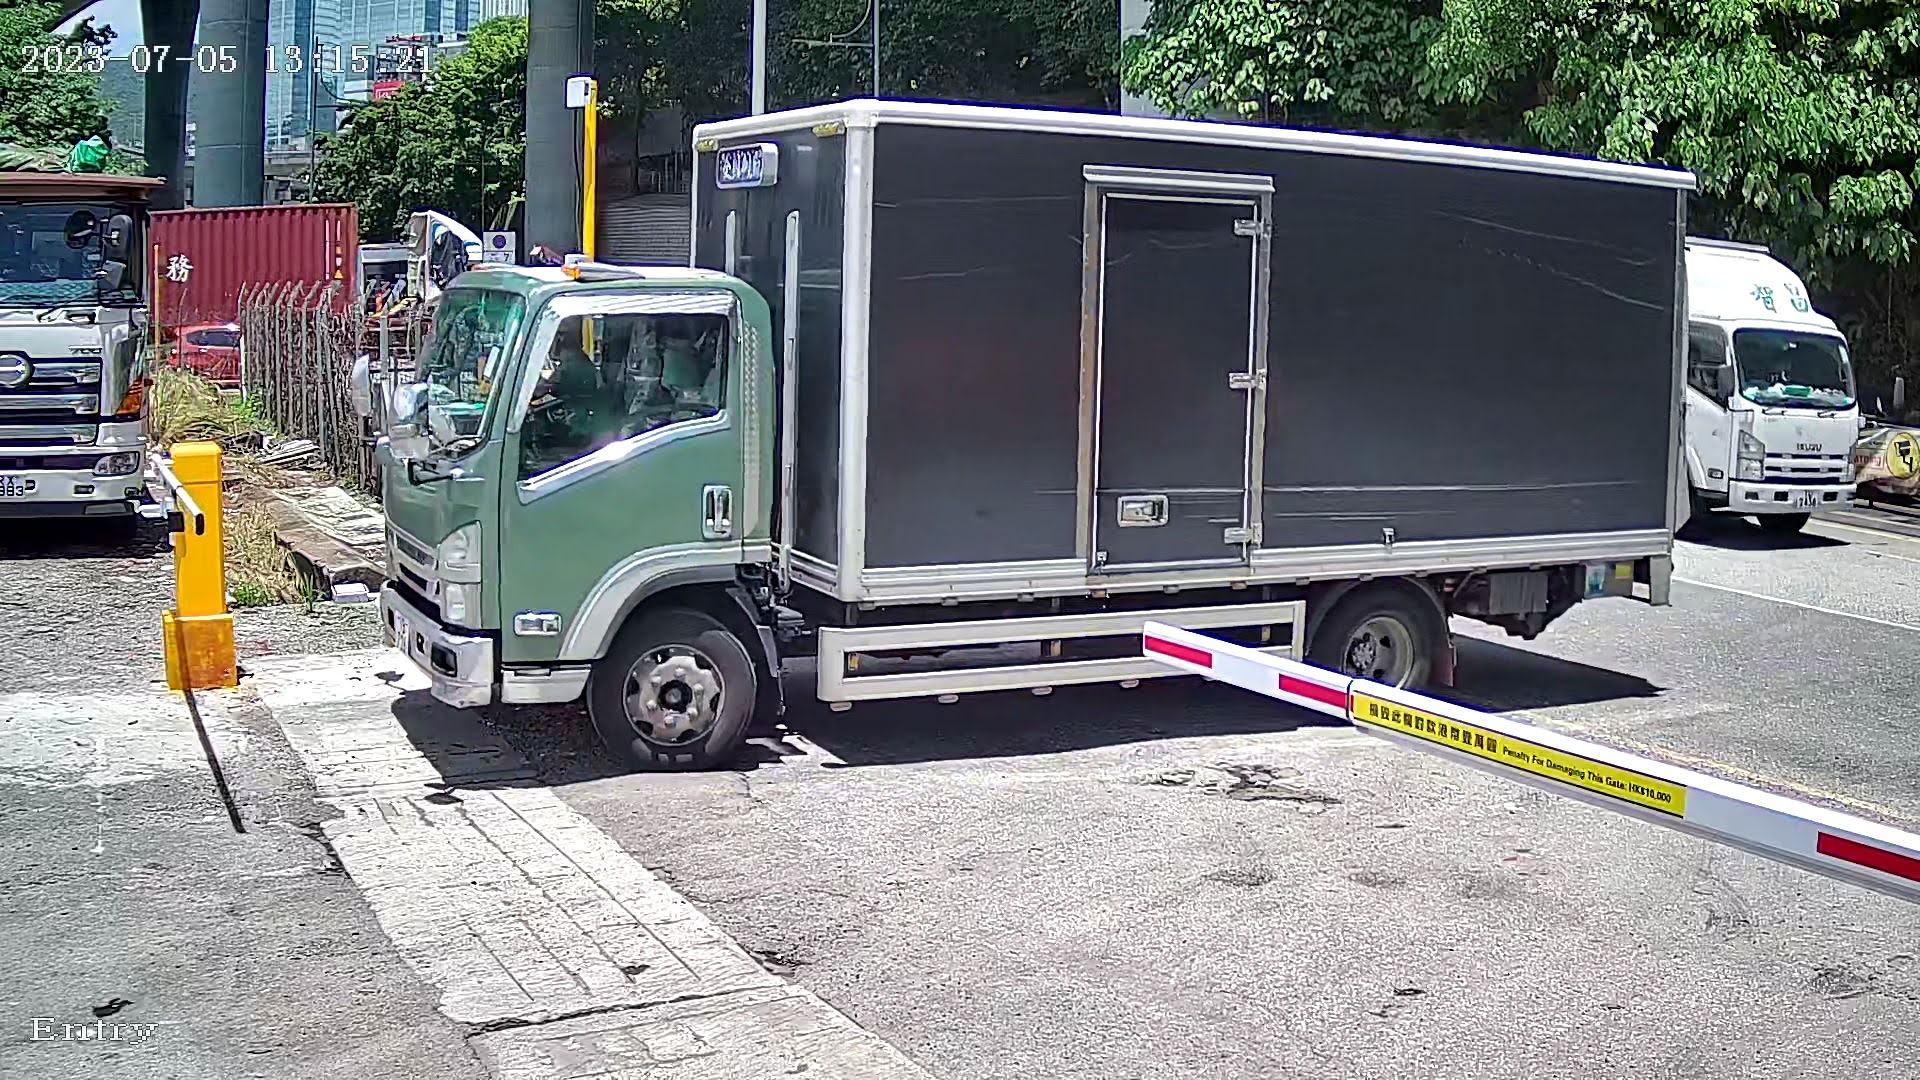truck: (357, 47, 1758, 837)
